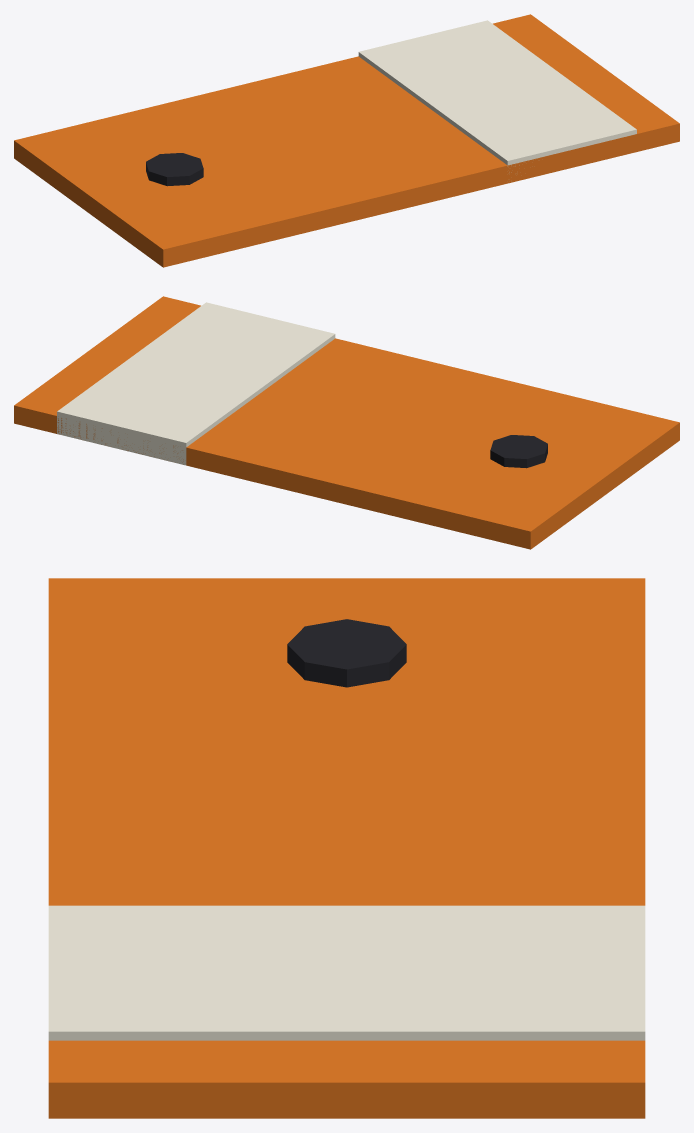
Rendered from train_ticket.glb.
The picture shows the model from 3 angles, top to bottom: view 1: azimuth 30°, elevation 25°; view 2: azimuth 150°, elevation 25°; view 3: azimuth 270°, elevation 25°; orthographic projection. The views are drawn at different scales.
Parts seen in each view (by area): view 1: card_ticket_orange, band_ticket_band, hole_ticket_hole; view 2: card_ticket_orange, band_ticket_band, hole_ticket_hole; view 3: card_ticket_orange, band_ticket_band, hole_ticket_hole.
Boxes of the visible parts, x1,y1,x2,y2 form: card_ticket_orange: (14, 14, 679, 267); band_ticket_band: (358, 20, 636, 172); hole_ticket_hole: (146, 153, 203, 186); card_ticket_orange: (14, 296, 679, 549); band_ticket_band: (57, 302, 335, 465); hole_ticket_hole: (490, 435, 547, 468); card_ticket_orange: (48, 578, 645, 1118); band_ticket_band: (48, 905, 645, 1040); hole_ticket_hole: (287, 619, 406, 687).
Size of the model in its own units: 0.12 by 0.006 by 0.06.
